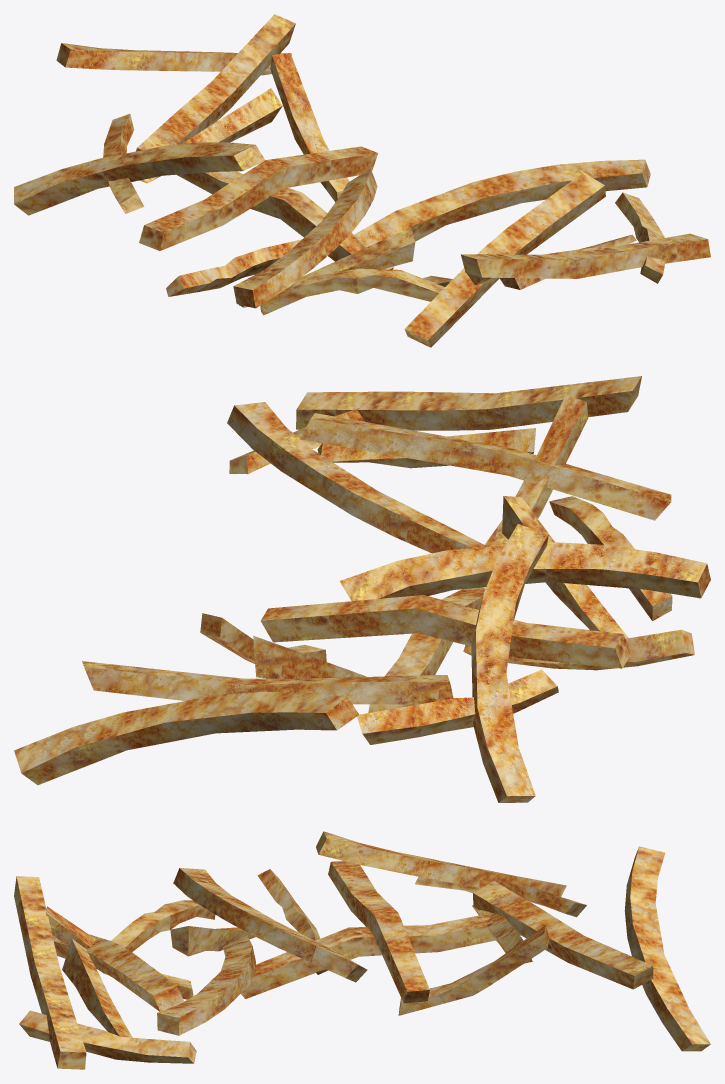
File: potatoes.FBX
The picture shows the model from 3 angles, top to bottom: view 1: azimuth 30°, elevation 25°; view 2: azimuth 150°, elevation 25°; view 3: azimuth 270°, elevation 25°; orthographic projection. The views are drawn at different scales.
Visible parts, largest first — view 1: potatoes; view 2: potatoes; view 3: potatoes.
Part boxes in pixels (bbox=[...]): potatoes: bbox=[14, 14, 710, 347]; potatoes: bbox=[14, 376, 710, 802]; potatoes: bbox=[14, 831, 710, 1069].
Bounding box in the file's own units: 7.49 × 2 × 10.56.
Materials: 1 (1 with a texture image).
